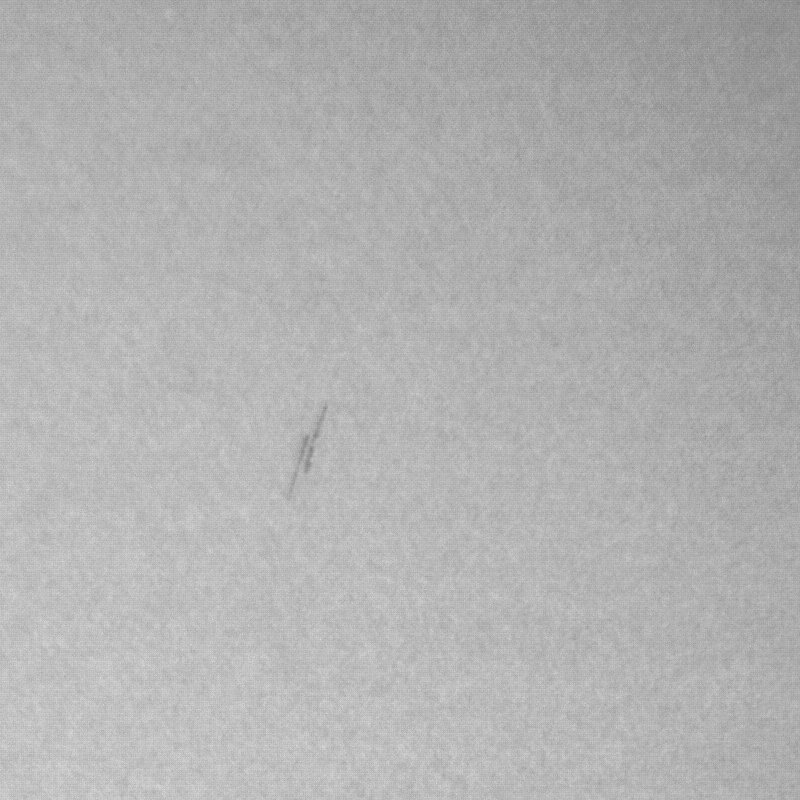defect: (287, 406, 325, 504)
